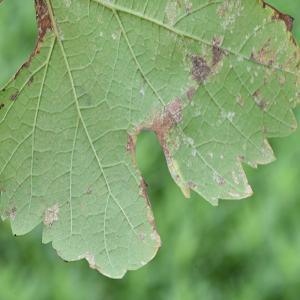Folha: (0, 0, 299, 279)
Fungo: (162, 33, 228, 140), (189, 33, 228, 84), (216, 0, 243, 30), (162, 96, 183, 134), (190, 52, 211, 84), (210, 34, 228, 66), (42, 202, 60, 228), (252, 88, 269, 112), (165, 0, 177, 26), (212, 171, 226, 185), (185, 84, 196, 101), (6, 206, 17, 220), (231, 169, 239, 184), (236, 92, 244, 106), (184, 0, 192, 14), (8, 90, 18, 100), (278, 74, 286, 86), (139, 80, 145, 96), (27, 75, 34, 87), (218, 176, 225, 186), (0, 96, 4, 110), (86, 186, 92, 194), (264, 76, 268, 85), (0, 102, 4, 110), (66, 199, 70, 205)
